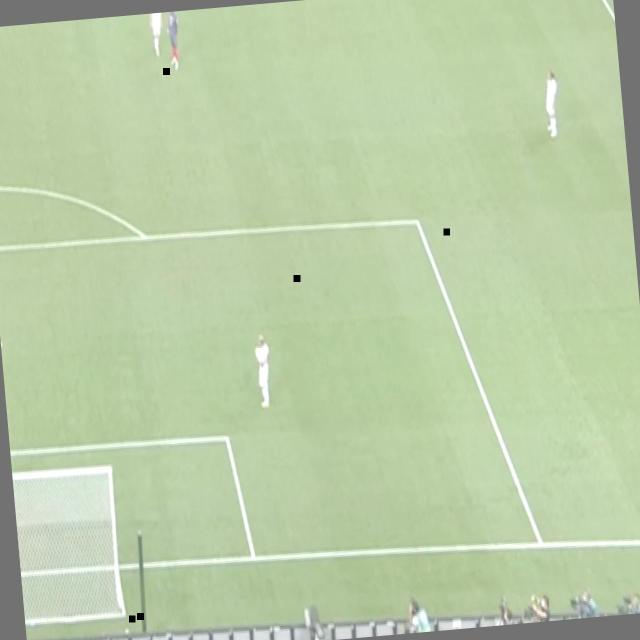player-white: (251, 329, 277, 411), (539, 63, 564, 142), (163, 11, 185, 70), (148, 12, 172, 62)
